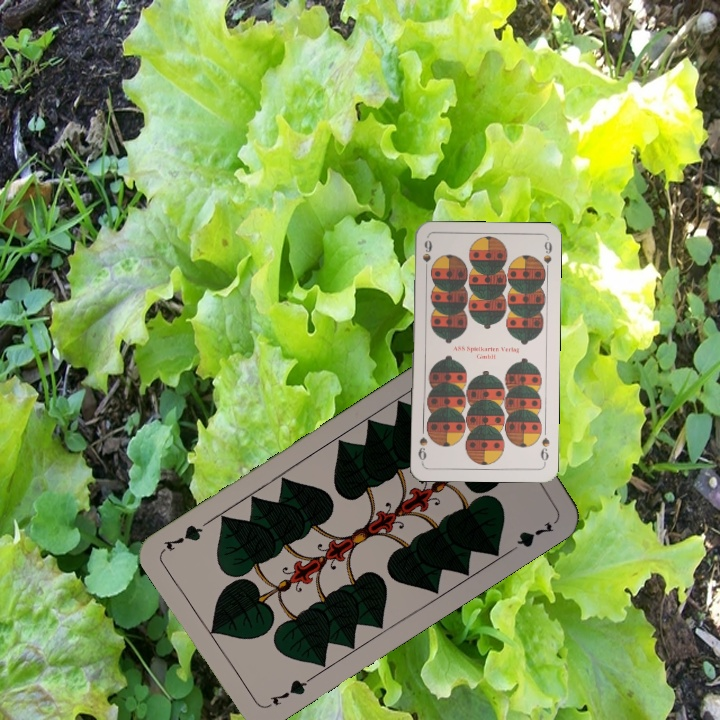G7: (266, 673, 314, 708)
S9: (419, 236, 435, 276), (537, 434, 552, 466)
